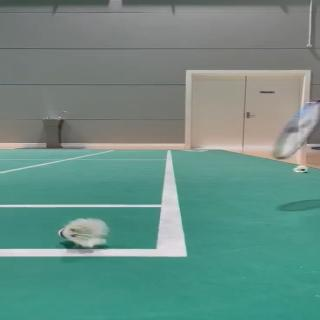Shuttle: (58, 217, 110, 249), (292, 165, 308, 173)
